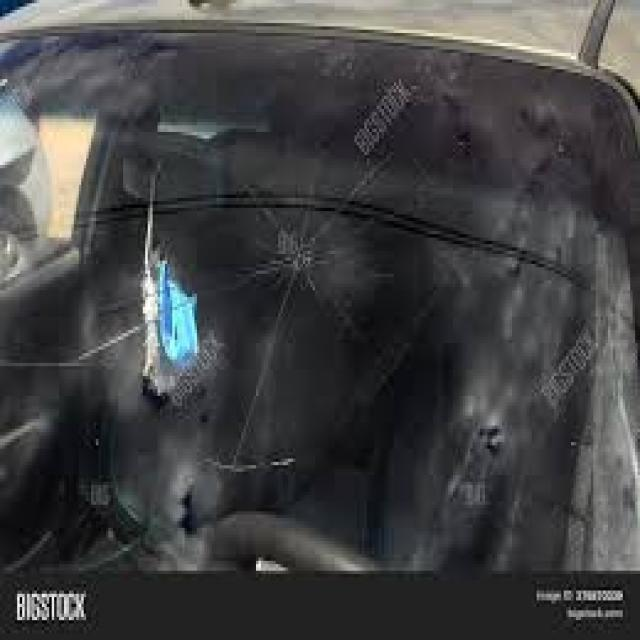damaged-windscreen: (2, 31, 640, 575)
